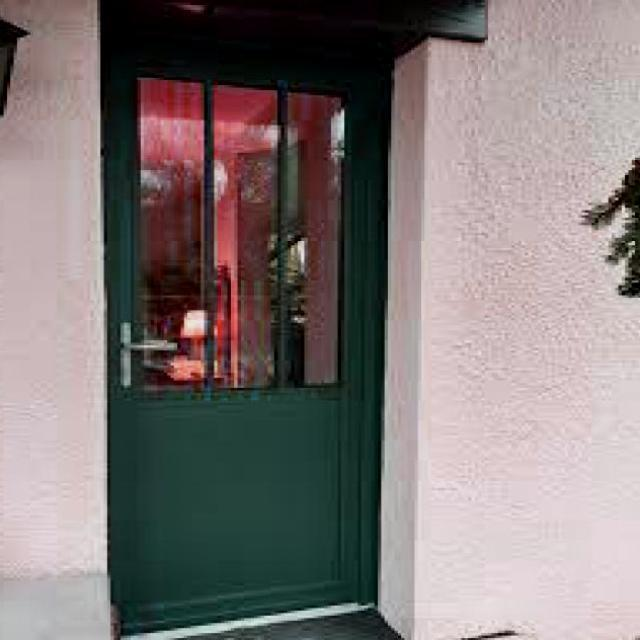door: (104, 54, 386, 634)
